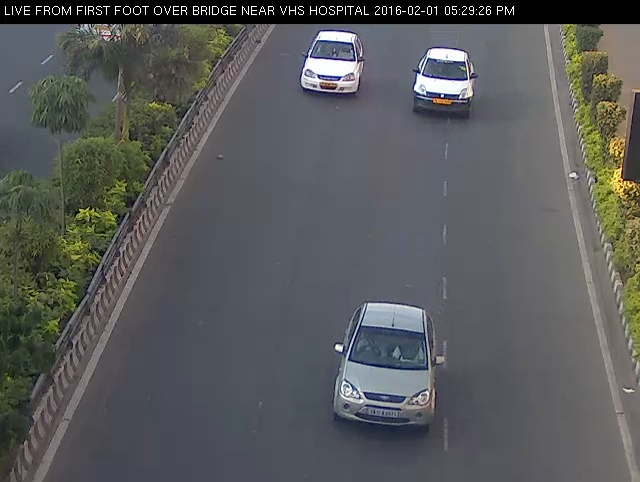Car: (327, 289, 448, 445), (294, 21, 372, 105), (408, 41, 480, 123)
